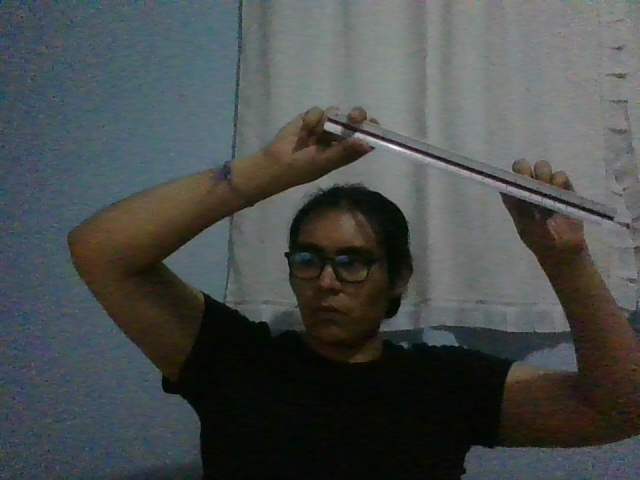regla: (322, 111, 617, 226)
